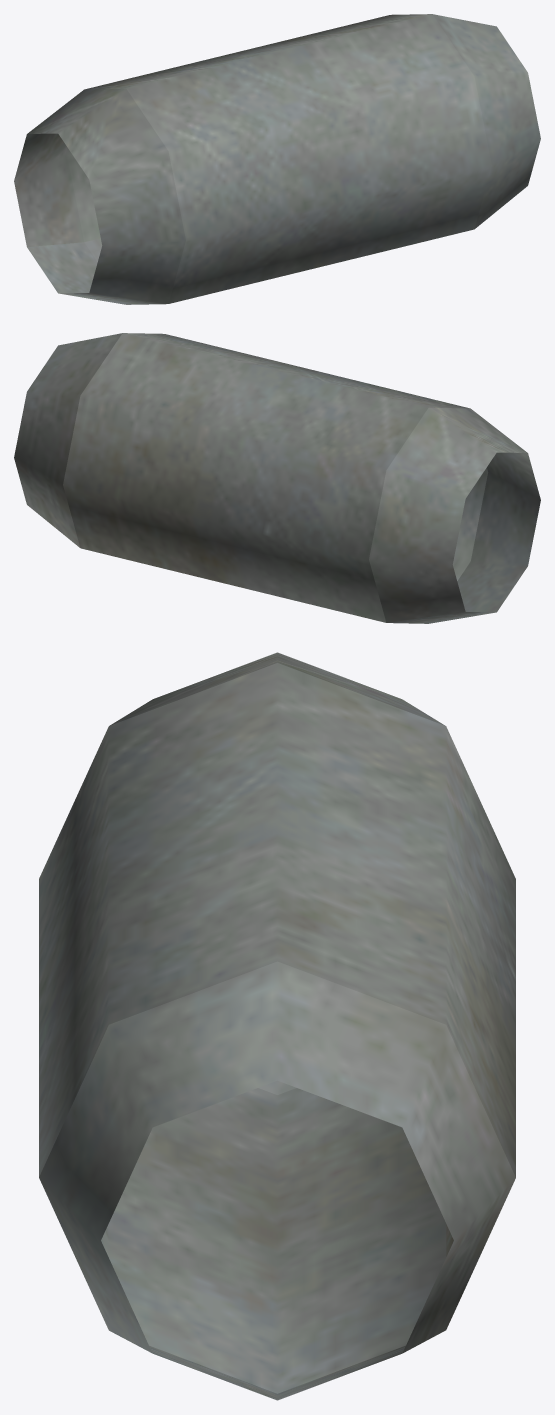
Rendered from Ob_PipeCover.fbx.
3 views of the same model, one above another, from view 1: azimuth 30°, elevation 25°; view 2: azimuth 150°, elevation 25°; view 3: azimuth 270°, elevation 25° (orthographic). The views are drawn at different scales.
Visible parts, largest first — view 1: Ob_PipeCover; view 2: Ob_PipeCover; view 3: Ob_PipeCover.
Boxes of the visible parts, x1,y1,x2,y2 form: Ob_PipeCover: (14, 14, 540, 304); Ob_PipeCover: (14, 333, 540, 623); Ob_PipeCover: (39, 652, 515, 1400).
Bounding box in the file's own units: 224 × 106 × 106.
